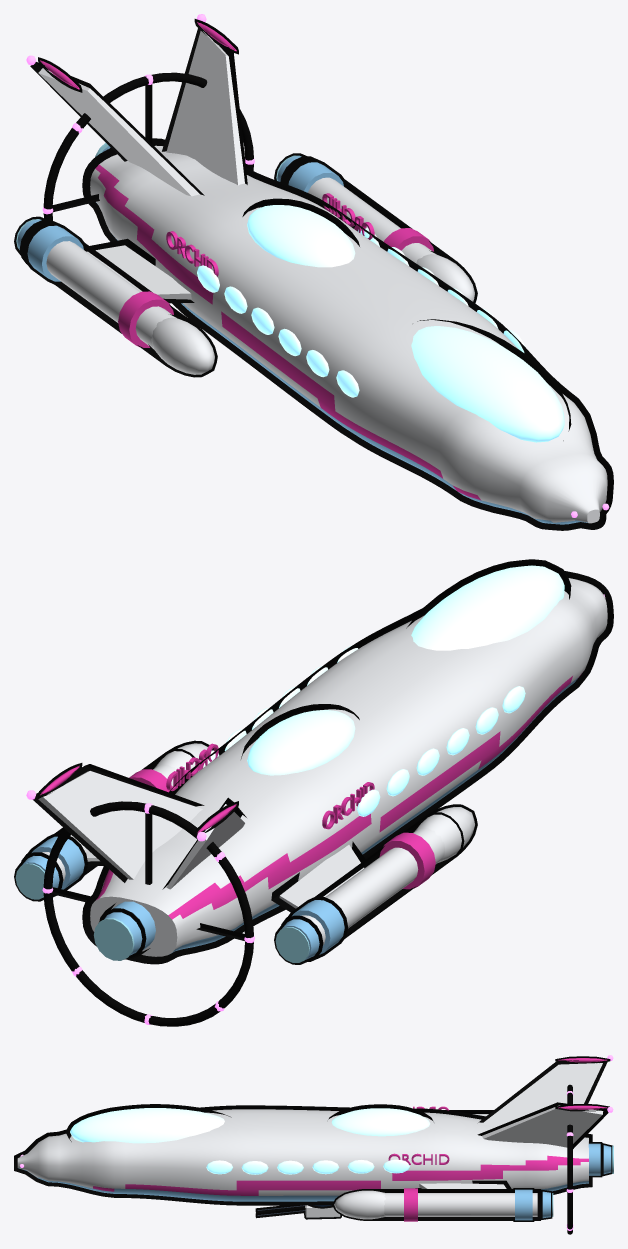
The model's file is Shuttle_Luxury.fbx.
3 views of the same model, one above another, from view 1: azimuth 30°, elevation 25°; view 2: azimuth 150°, elevation 25°; view 3: azimuth 270°, elevation 25° (orthographic). The views are drawn at different scales.
Visible parts, largest first — view 1: Hull.001, Canopy.001, Tail1, Nac-1_Body, SkyDome, Tail-1, Nac-1_Nose, Nac1_Body, Nac-1_Pylon, Halo, Nac-1_Ring, Nac1_Nose (+4 smaller); view 2: Hull.001, Canopy.001, Tail1, SkyDome, Nac-1_Body, Halo, Nac-1_Pylon, Nac-1_Nose, Tail-1, Nac-1_Ring, Main_Glow, Nac1_Ring (+11 smaller); view 3: Hull.001, Canopy.001, Nac1_Body, Tail-1, Tail1, SkyDome, Nac1_Nose, Halo, Nac1_Pylon, Nac1_Ring, Main_Body, Nac1_Band (+13 smaller).
Part boxes in pixels (x1,y1,x2,y2): Hull.001: (82, 138, 613, 530); Canopy.001: (411, 319, 571, 442); Tail1: (162, 28, 247, 185); Nac-1_Body: (19, 219, 195, 365); SkyDome: (242, 198, 359, 267); Tail-1: (30, 62, 204, 196); Nac-1_Nose: (148, 314, 217, 377); Nac1_Body: (280, 156, 455, 263); Nac-1_Pylon: (83, 238, 194, 303); Halo: (43, 72, 253, 220); Nac-1_Ring: (24, 222, 83, 284); Nac1_Nose: (416, 250, 477, 303); Hull.001: (82, 571, 613, 964); Canopy.001: (406, 559, 571, 650); Tail1: (33, 764, 204, 882); SkyDome: (241, 704, 359, 775); Nac-1_Body: (281, 812, 464, 961); Halo: (43, 801, 253, 1026); Nac-1_Pylon: (271, 841, 369, 912); Nac-1_Nose: (411, 804, 477, 866); Tail-1: (162, 797, 246, 889); Nac-1_Ring: (288, 896, 348, 958); Main_Glow: (93, 918, 134, 960); Nac1_Ring: (28, 833, 88, 890); Hull.001: (14, 1105, 592, 1205); Canopy.001: (65, 1104, 231, 1143); Nac1_Body: (372, 1189, 540, 1220); Tail-1: (478, 1060, 607, 1126); Tail1: (477, 1102, 608, 1148); SkyDome: (328, 1104, 433, 1136); Nac1_Nose: (332, 1189, 390, 1220); Halo: (567, 1084, 572, 1234); Nac1_Pylon: (415, 1180, 511, 1188); Nac1_Ring: (513, 1188, 534, 1221); Main_Body: (588, 1142, 602, 1177); Nac1_Band: (404, 1188, 417, 1221).
Bounding box in the file's own units: 6.86 × 5.08 × 18.67.
